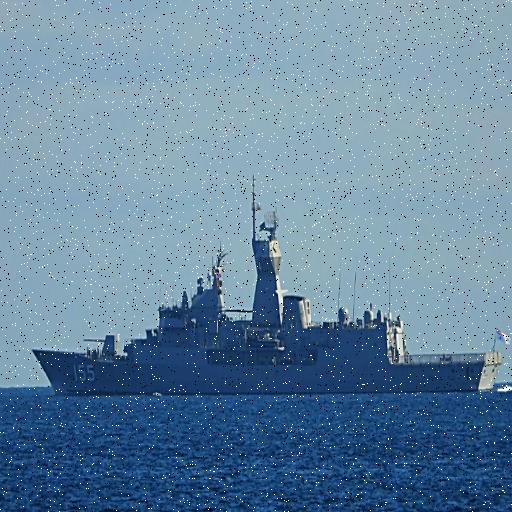Fragata: (34, 170, 506, 401)
